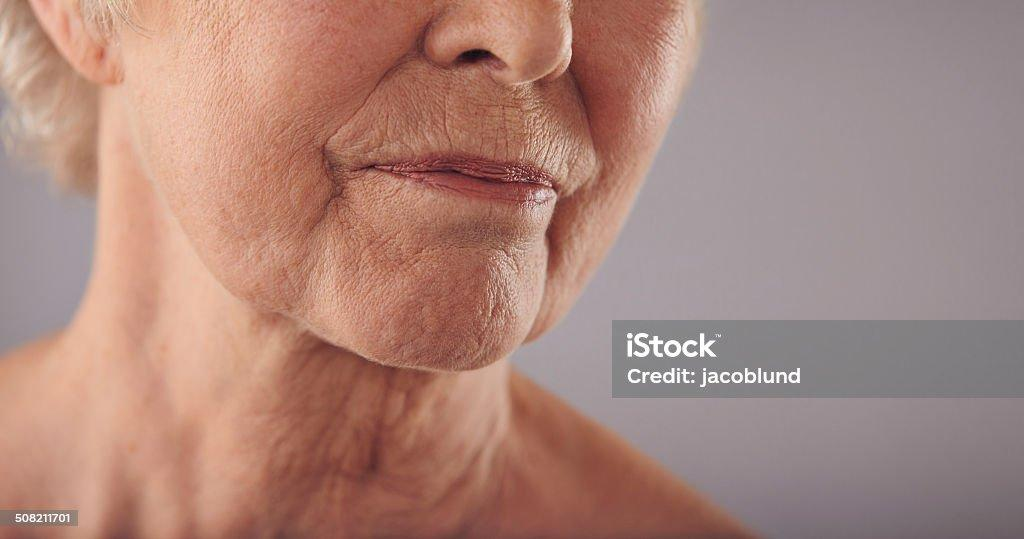Dry-Skin: (499, 57, 660, 234), (261, 141, 382, 304)
